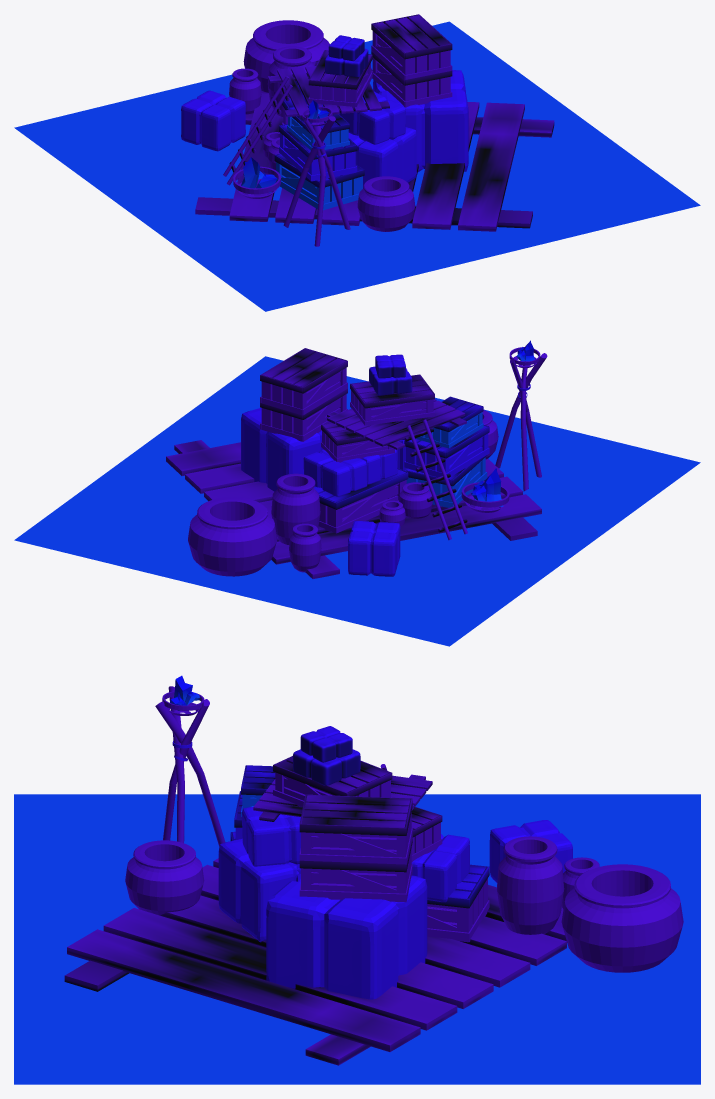
The model's file is baggage_blue.fbx.
The picture shows the model from 3 angles, top to bottom: view 1: azimuth 30°, elevation 25°; view 2: azimuth 150°, elevation 25°; view 3: azimuth 270°, elevation 25°; orthographic projection. The views are drawn at different scales.
Parts seen in each view (by area): view 1: Plane, Cube.059, Cube.028, Cube.027, Cylinder.028, Cylinder.026, Cube.030, Cube.117, Cylinder.036, Cube.072, Cube.029, Cube.118 (+16 smaller); view 2: Plane, Cube.059, Cylinder.028, Cube.028, Cube.027, Cylinder.029, Cube.072, Cube.117, Cube.114, Cylinder.036, Cube.118, Cube.107 (+21 smaller); view 3: Plane, Cube.059, Cube.028, Cylinder.028, Cylinder.029, Cylinder.026, Cube.030, Cube.117, Cube.112, Cube.118, Cylinder.036, Cube.029 (+13 smaller).
Boxes of the visible parts, bbox=[...] form: Plane: bbox=[14, 21, 700, 311]; Cube.059: bbox=[195, 93, 554, 231]; Cube.028: bbox=[373, 70, 468, 172]; Cube.027: bbox=[181, 90, 245, 151]; Cylinder.028: bbox=[243, 20, 329, 93]; Cylinder.026: bbox=[357, 176, 415, 231]; Cube.030: bbox=[348, 127, 416, 188]; Cube.117: bbox=[371, 14, 452, 59]; Cylinder.036: bbox=[283, 116, 350, 246]; Cube.072: bbox=[268, 66, 389, 117]; Cube.029: bbox=[339, 91, 405, 144]; Cube.118: bbox=[371, 19, 452, 80]; Plane: bbox=[14, 356, 700, 646]; Cube.059: bbox=[166, 440, 541, 578]; Cylinder.028: bbox=[188, 497, 276, 576]; Cube.028: bbox=[241, 407, 323, 491]; Cube.027: bbox=[348, 521, 400, 576]; Cylinder.029: bbox=[271, 473, 320, 544]; Cube.072: bbox=[327, 399, 466, 449]; Cube.117: bbox=[260, 348, 347, 393]; Cube.114: bbox=[303, 449, 367, 496]; Cylinder.036: bbox=[495, 353, 547, 491]; Cube.118: bbox=[260, 367, 347, 415]; Cube.107: bbox=[318, 480, 406, 533]; Plane: bbox=[14, 794, 700, 1084]; Cube.059: bbox=[64, 858, 566, 1065]; Cube.028: bbox=[266, 872, 427, 999]; Cylinder.028: bbox=[561, 864, 683, 972]; Cylinder.029: bbox=[497, 836, 564, 934]; Cylinder.026: bbox=[125, 840, 204, 915]; Cube.030: bbox=[218, 838, 300, 942]; Cube.117: bbox=[299, 794, 412, 835]; Cube.112: bbox=[299, 848, 412, 902]; Cube.118: bbox=[299, 812, 412, 864]; Cylinder.036: bbox=[155, 686, 225, 846]; Cube.029: bbox=[242, 807, 300, 866].
Bounding box in the file's own units: 1000 × 311 × 1000.
